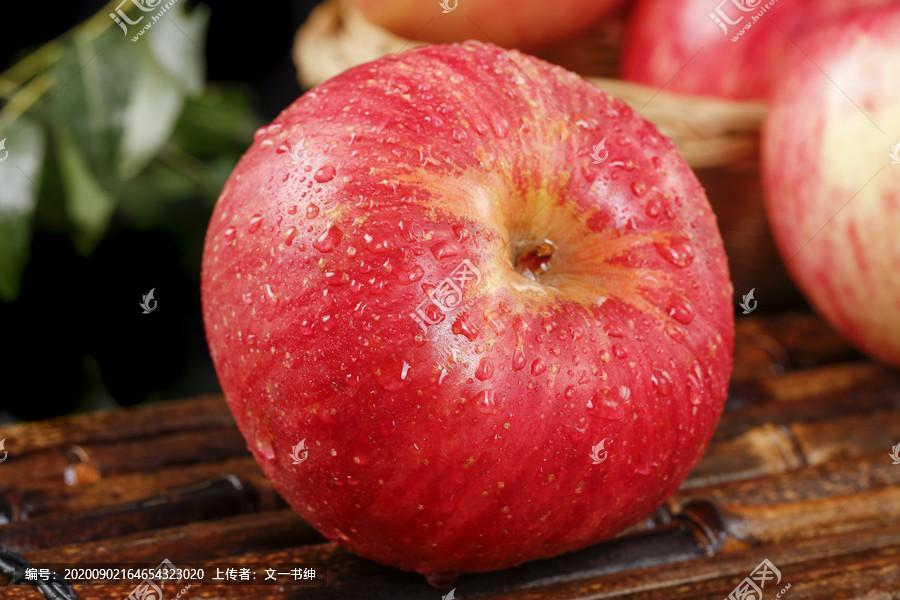apple: (197, 36, 733, 574)
